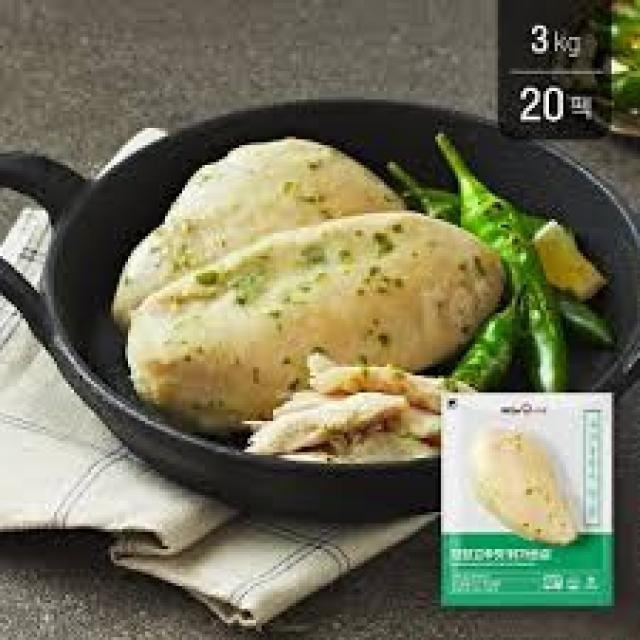chicken: (125, 212, 514, 432), (110, 137, 408, 331), (437, 393, 619, 606)
